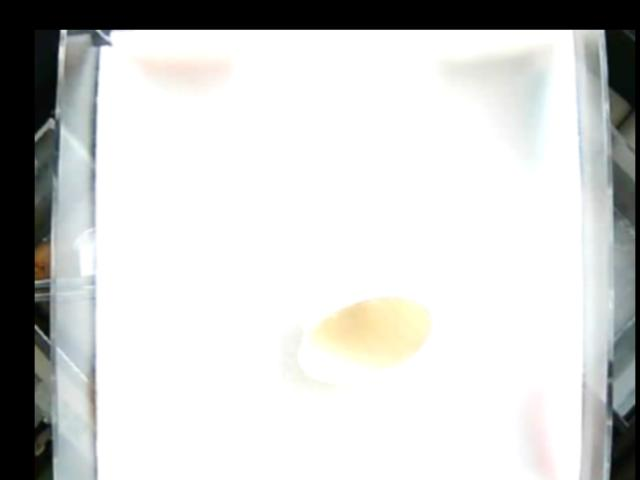Cup: (300, 254, 431, 384)
